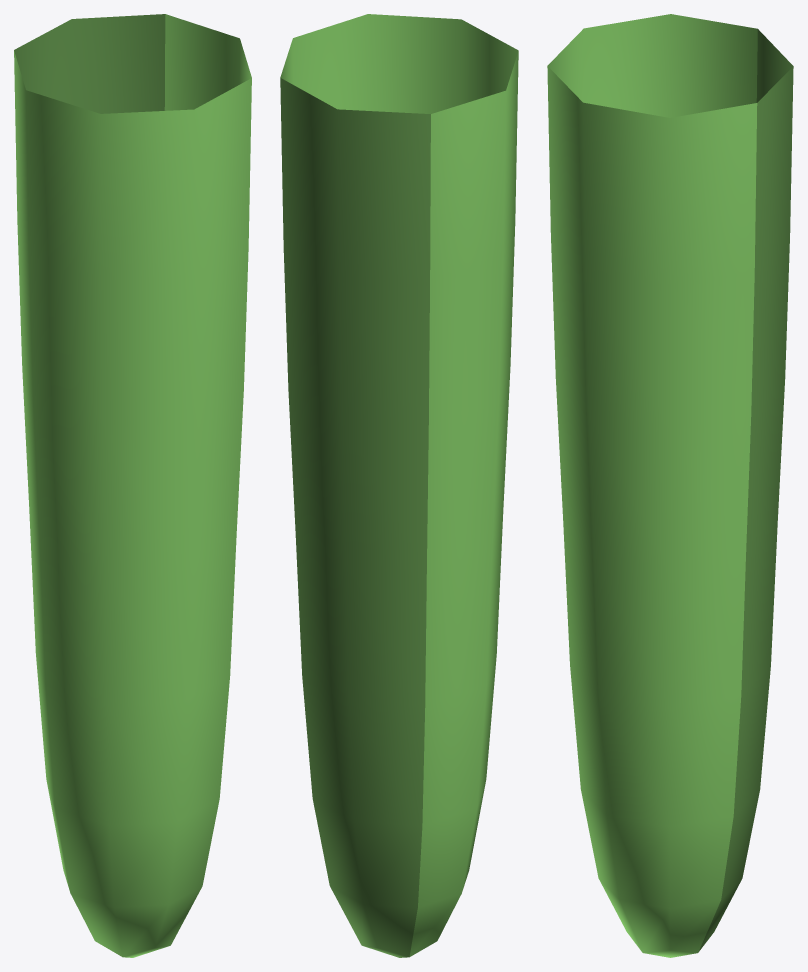
3 views of the same model, side by side, from view 1: azimuth 30°, elevation 25°; view 2: azimuth 150°, elevation 25°; view 3: azimuth 270°, elevation 25° (orthographic).
Visible parts, largest first — view 1: Tentacle.005; view 2: Tentacle.005; view 3: Tentacle.005.
Part boxes in pixels (<box>): Tentacle.005: <box>14,14,251,957</box>; Tentacle.005: <box>280,14,518,957</box>; Tentacle.005: <box>547,14,793,957</box>.
Size of the model in its own units: 0.5527 by 2.21 by 0.5527.
